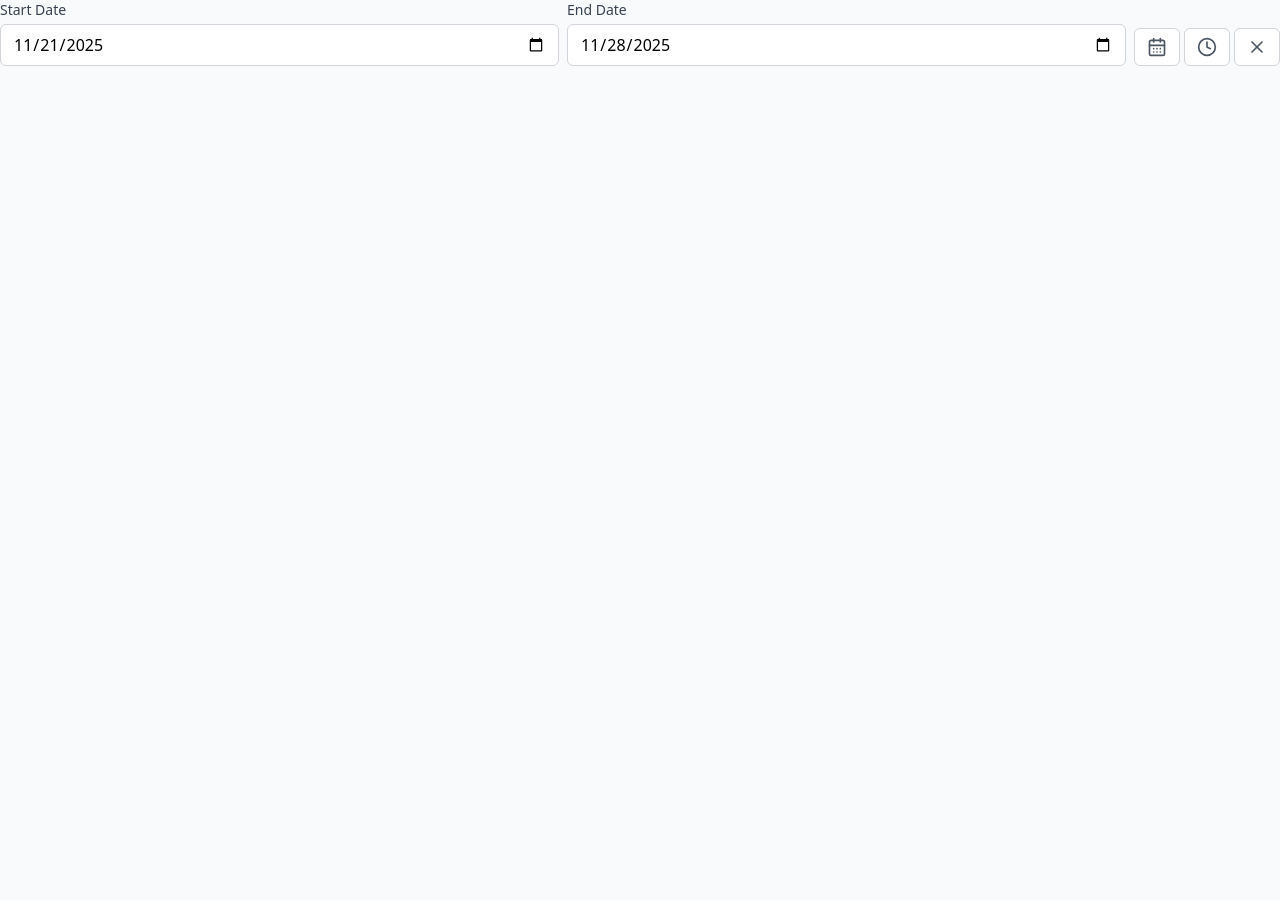
it: DateRangePicker › Preset Date Ranges › displays preset options
This screenshot has width=1280, height=900.
Click the button named "presets": {"x": 1207, "y": 47} [1184, 28, 1230, 66]
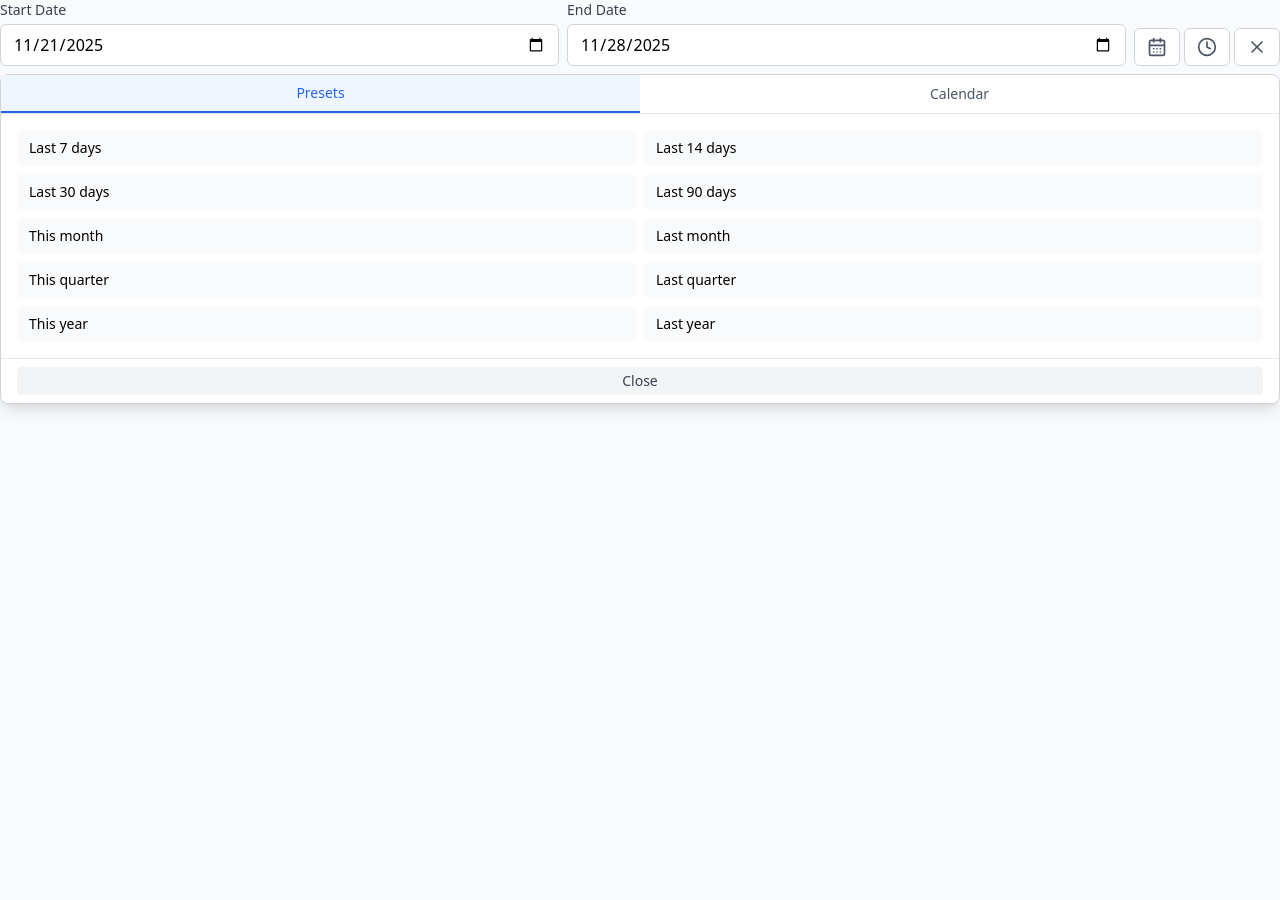
Result: the button "Last 7 days" is shown at [17, 130, 636, 166]
Result: the button "Last 14 days" is shown at [644, 130, 1263, 166]
Result: the button "Last 30 days" is shown at [17, 174, 636, 210]
